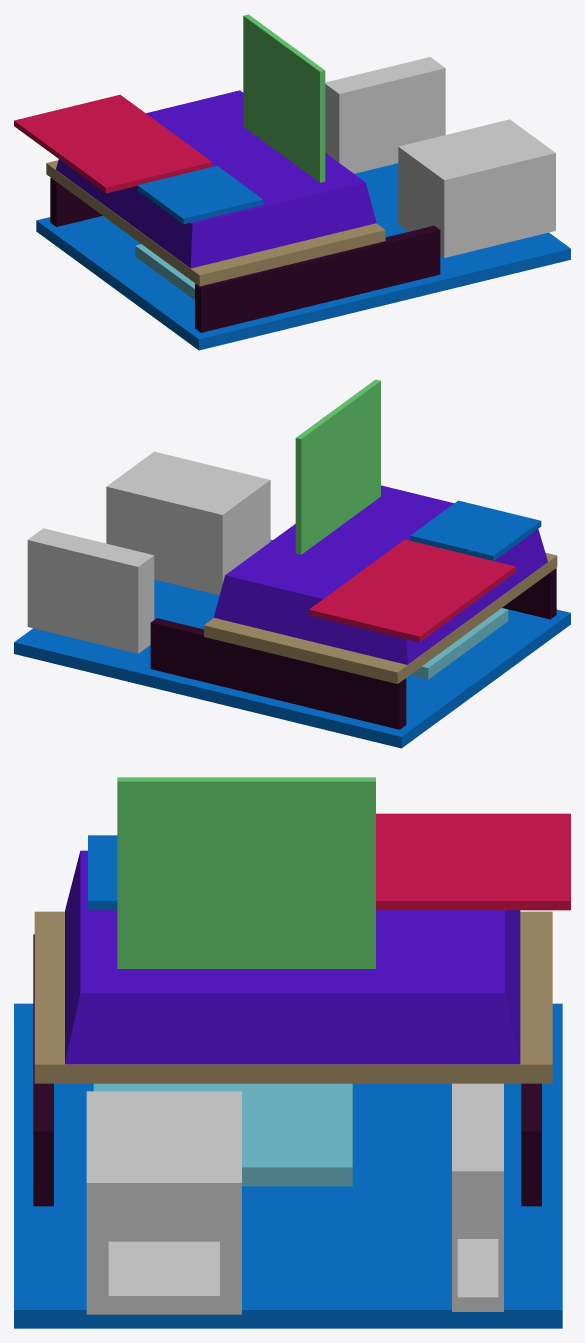
File: arduino.dae
3 renders of one model, top to bottom at view 1: azimuth 30°, elevation 25°; view 2: azimuth 150°, elevation 25°; view 3: azimuth 270°, elevation 25°, orthographic. The views are drawn at different scales.
Parts seen in each view (by area): view 1: Cube, PCB, Network, Connector1, Accel, USB, Shifter, ProtoPCB, Compass, Connector2, Yun; view 2: Cube, PCB, Network, USB, Connector2, Accel, Shifter, ProtoPCB, Compass, Yun, Connector1; view 3: PCB, Cube, Shifter, Network, ProtoPCB, Accel, Yun, USB, Connector1, Connector2, Compass.
Boxes of the visible parts, bbox=[...] form: Cube: bbox=[56, 90, 376, 268]; PCB: bbox=[36, 163, 570, 350]; Network: bbox=[398, 119, 555, 257]; Connector1: bbox=[195, 225, 440, 332]; Accel: bbox=[14, 94, 212, 193]; USB: bbox=[325, 57, 445, 173]; Shifter: bbox=[243, 14, 325, 182]; ProtoPCB: bbox=[46, 160, 385, 286]; Compass: bbox=[137, 166, 263, 224]; Connector2: bbox=[50, 178, 102, 226]; Yun: bbox=[135, 244, 195, 299]; Cube: bbox=[214, 485, 547, 664]; PCB: bbox=[14, 540, 570, 748]; Network: bbox=[106, 451, 270, 595]; USB: bbox=[27, 528, 154, 653]; Connector2: bbox=[150, 618, 406, 729]; Accel: bbox=[309, 539, 515, 642]; Shifter: bbox=[295, 379, 380, 554]; ProtoPCB: bbox=[204, 552, 557, 683]; Compass: bbox=[410, 500, 541, 560]; Yun: bbox=[410, 608, 508, 679]; Connector1: bbox=[502, 568, 556, 619]; PCB: bbox=[14, 1003, 562, 1328]; Cube: bbox=[65, 850, 520, 1064]; Shifter: bbox=[117, 777, 375, 968]; Network: bbox=[86, 1091, 241, 1314]; ProtoPCB: bbox=[34, 911, 552, 1083]; Accel: bbox=[376, 813, 570, 910]; Yun: bbox=[93, 1083, 352, 1186]; USB: bbox=[452, 1083, 503, 1311]; Connector1: bbox=[33, 934, 53, 1206]; Connector2: bbox=[521, 1083, 541, 1206]; Compass: bbox=[88, 835, 117, 910].
Size of the model in its own units: 74.96 by 53.79 by 39.42.
